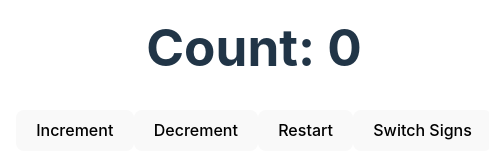
Test: Counter Component › should increment one when click at increment counter
Click the button "Increment": [75, 130] box x1=16 y1=110 x2=134 y2=151
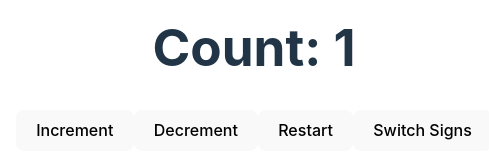
expect the heading "Count: 1" is shown: met, box x1=152 y1=16 x2=356 y2=78
